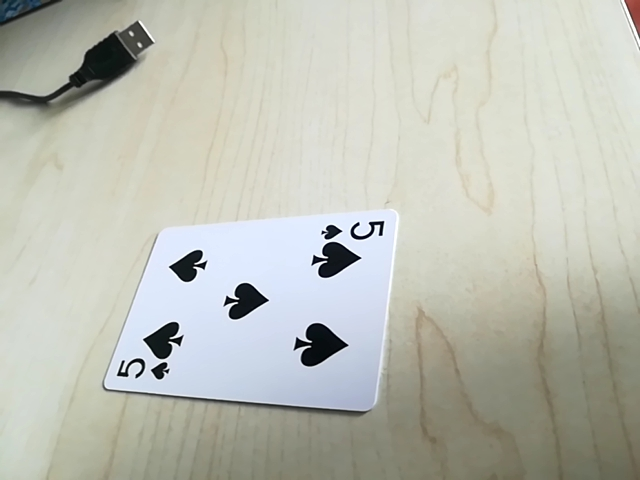ht 5: (106, 355, 179, 388), (318, 214, 386, 244)
